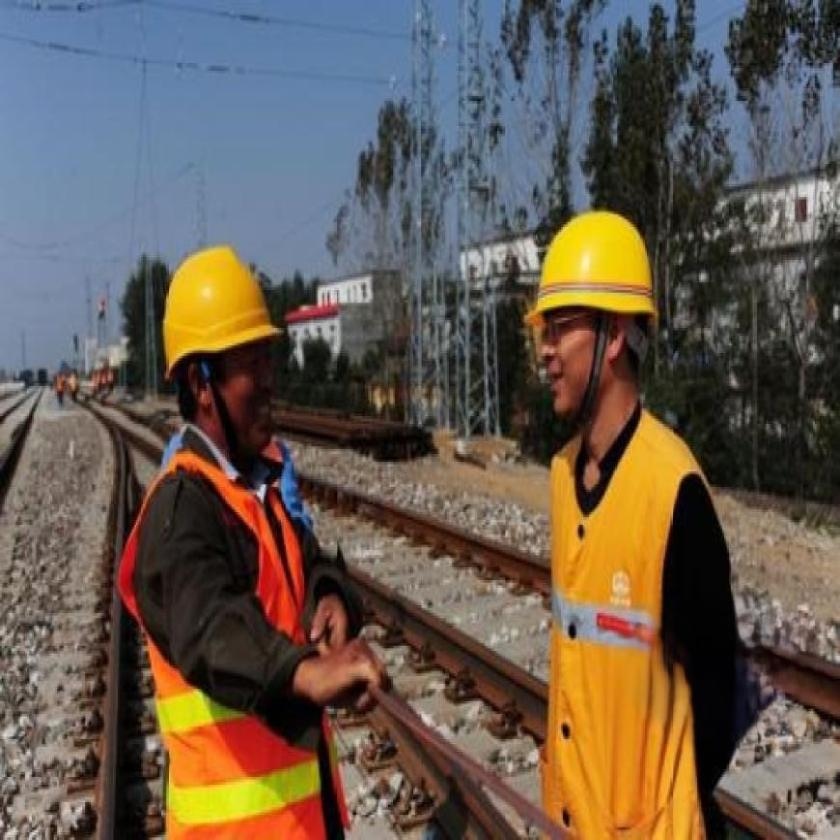Con_casco: (530, 211, 658, 427), (163, 242, 284, 460)
